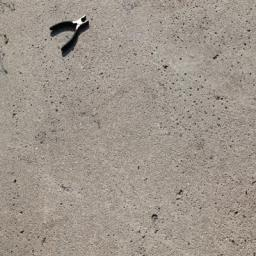FOD: (50, 15, 96, 57)
